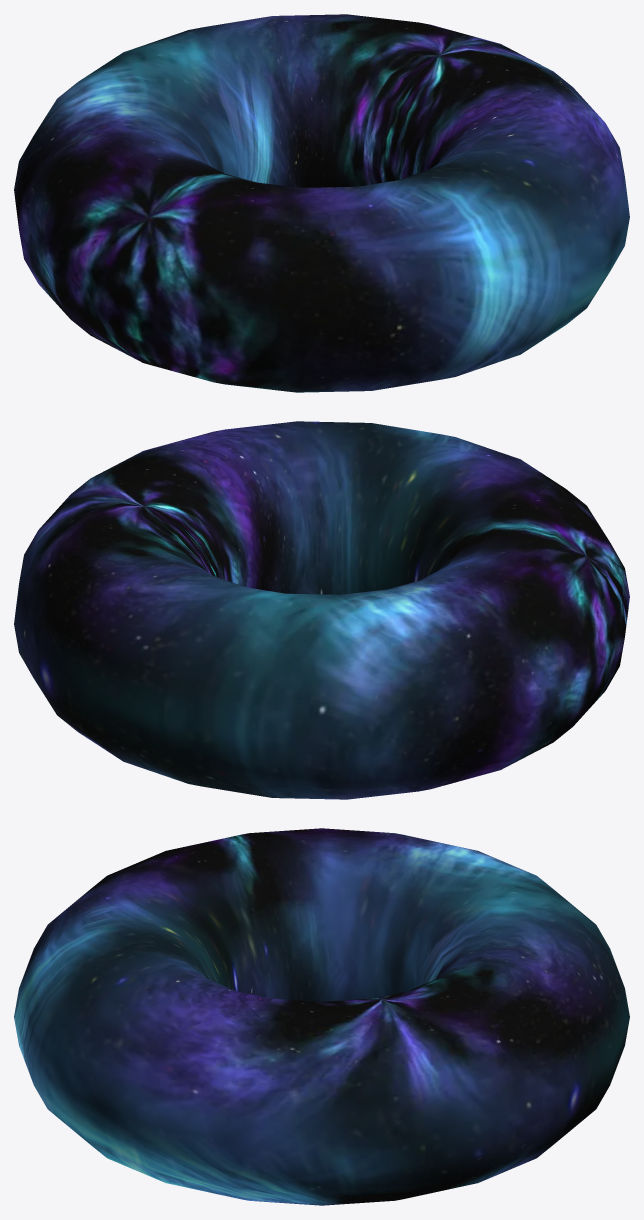
File: pm-black-hole-01.glb
3 renders of one model, top to bottom at view 1: azimuth 30°, elevation 25°; view 2: azimuth 150°, elevation 25°; view 3: azimuth 270°, elevation 25°, orthographic.
Visible parts, largest first — view 1: BlackHole01; view 2: BlackHole01; view 3: BlackHole01.
Part boxes in pixels (x1,y1,x2,y2): BlackHole01: [14, 14, 629, 392]; BlackHole01: [14, 421, 629, 799]; BlackHole01: [14, 828, 629, 1205].
Bounding box in the file's own units: 16.62 × 5.54 × 16.62.
1 material, 1 textured.
